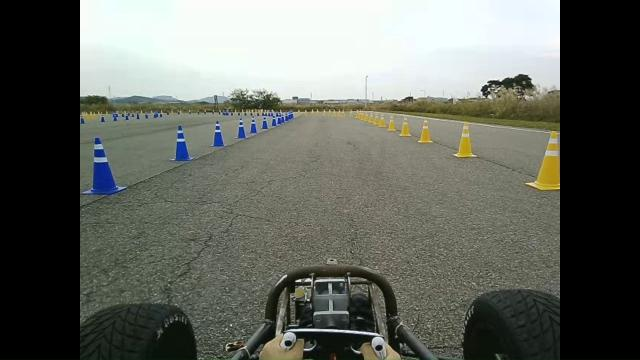blue cone: (84, 135, 128, 200), (169, 119, 196, 167), (208, 118, 230, 150), (232, 118, 250, 145)
yellow cone: (525, 130, 560, 191), (452, 120, 477, 158), (417, 118, 433, 143), (399, 116, 411, 137), (386, 114, 397, 132)
